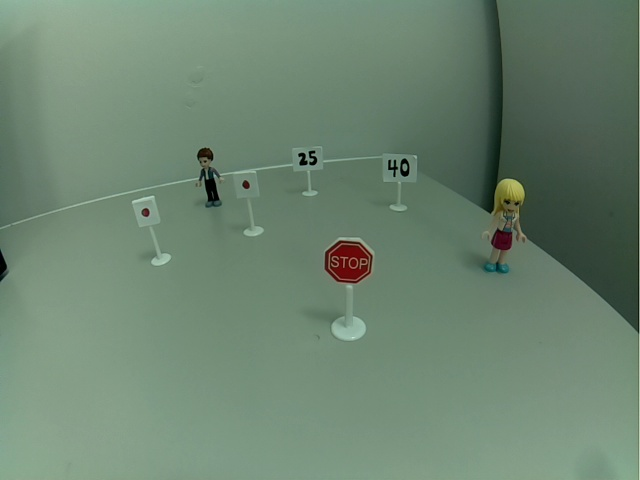people: (478, 176, 530, 276), (191, 146, 228, 209)
red light: (131, 194, 162, 230), (233, 169, 262, 200)
speed 25: (291, 145, 326, 173)
speed 40: (380, 152, 419, 185)
stop: (321, 236, 377, 287)
